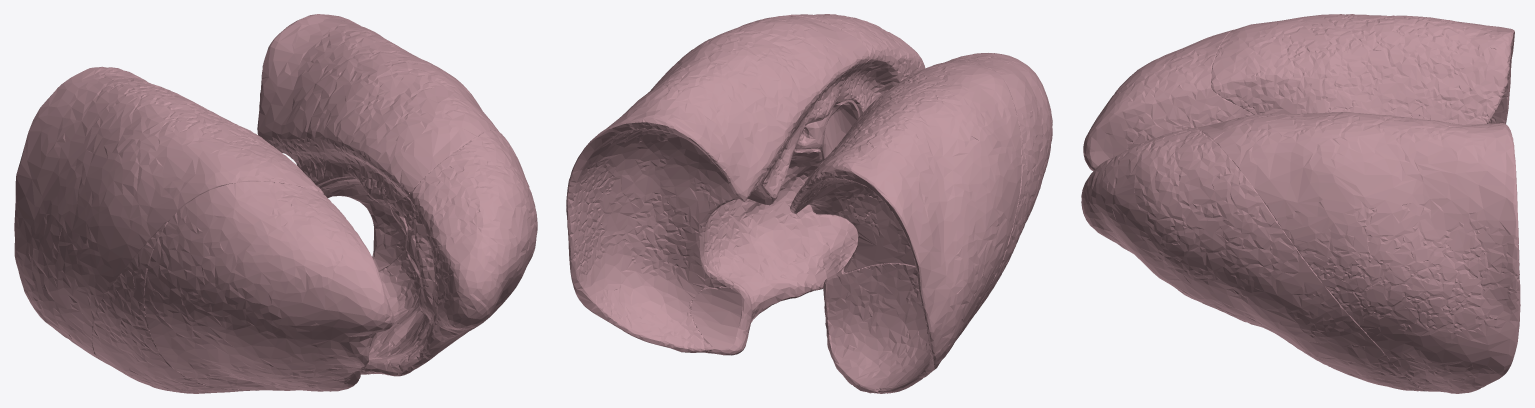
The model's file is poumons.glb.
3 views of the same model, side by side, from view 1: azimuth 30°, elevation 25°; view 2: azimuth 150°, elevation 25°; view 3: azimuth 270°, elevation 25° (orthographic). The views are drawn at different scales.
Visible parts, largest first — view 1: world; view 2: world; view 3: world.
Boxes of the visible parts, x1,y1,x2,y2 form: world: (14,14,537,393); world: (566,14,1052,393); world: (1081,14,1520,393).
Size of the model in its own units: 1.96 by 1.4 by 2.
